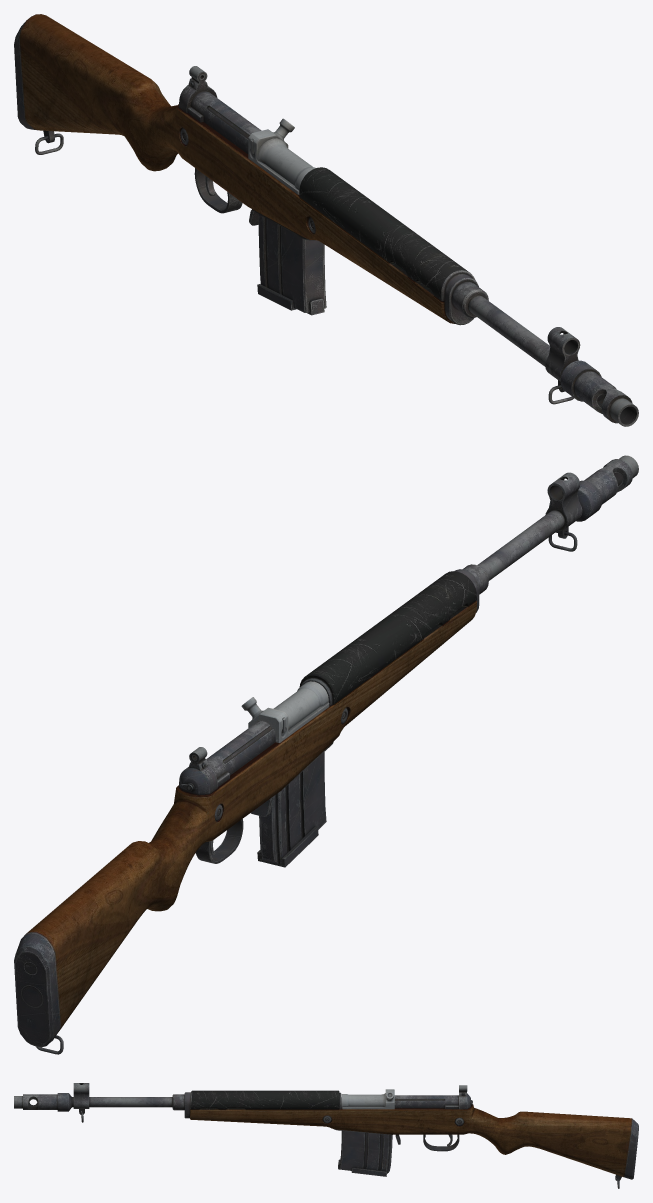
The model's file is gewehr47.gltf.
3 views of the same model, one above another, from view 1: azimuth 30°, elevation 25°; view 2: azimuth 150°, elevation 25°; view 3: azimuth 270°, elevation 25° (orthographic). The views are drawn at different scales.
Parts seen in each view (by area): view 1: base, mag, bolt; view 2: base, mag, bolt; view 3: base, mag, bolt.
Part boxes in pixels (x1,y1,x2,y2): base: (14,14,638,426); mag: (257,214,326,315); bolt: (248,118,315,194); base: (14,455,638,1054); mag: (257,752,326,867); bolt: (241,681,329,742); base: (14,1083,638,1188); mag: (338,1131,392,1176); bolt: (341,1089,394,1109).
Bounding box in the file's own units: 5.72 × 24.96 × 137.
Materials: 1 (1 with a texture image).
